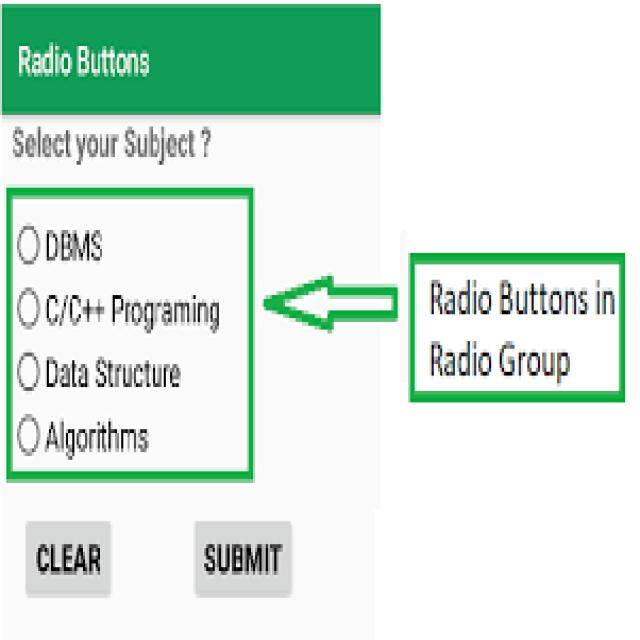buttons: (197, 524, 286, 588), (29, 524, 106, 588)
checkbox: (18, 283, 222, 335), (18, 354, 181, 389), (16, 218, 110, 270), (17, 415, 151, 447)
text: (425, 273, 614, 388), (11, 125, 209, 163), (14, 44, 158, 81)
